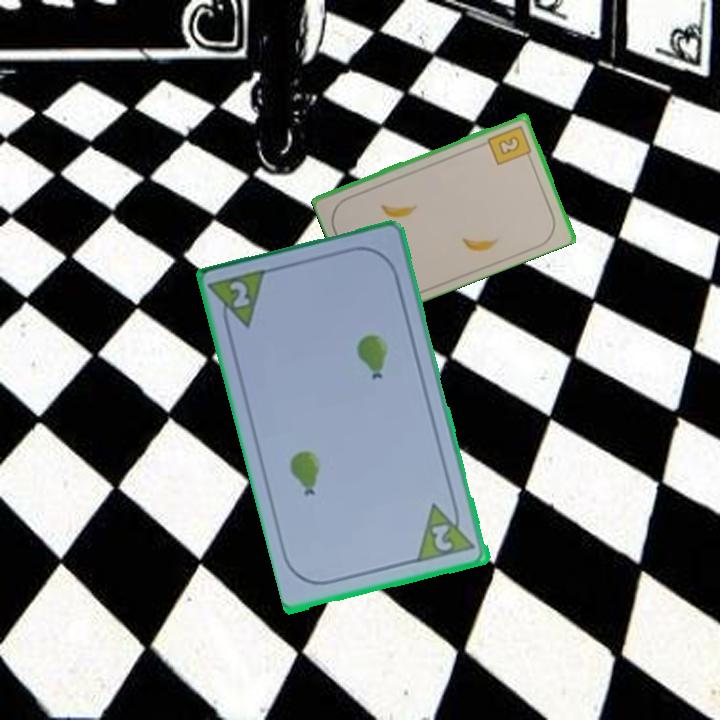2b: (484, 122, 534, 168)
2p: (414, 496, 479, 566), (226, 277, 253, 311)
